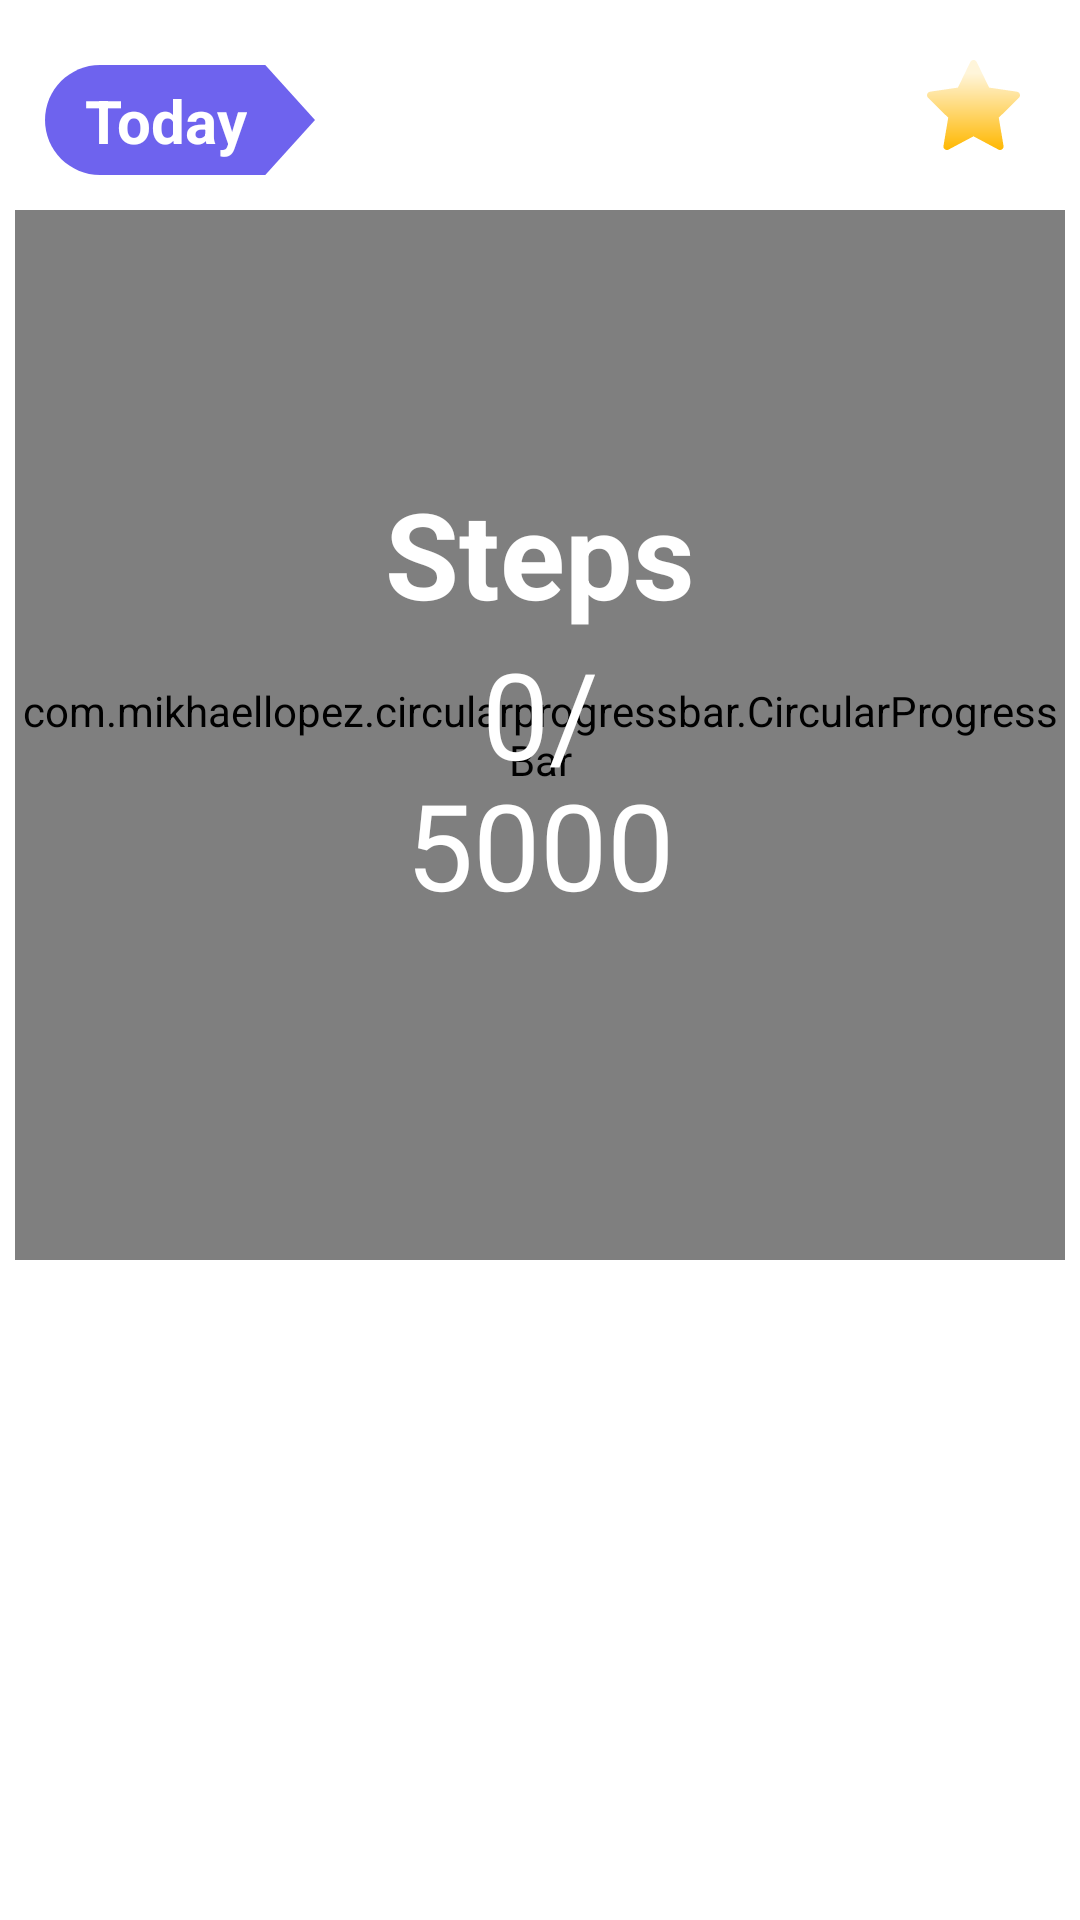

Named icons in this screenshot (1080x1920) and their bounding boxes, (x1, y1, x2, y2):
star: (927, 60, 1020, 150)
